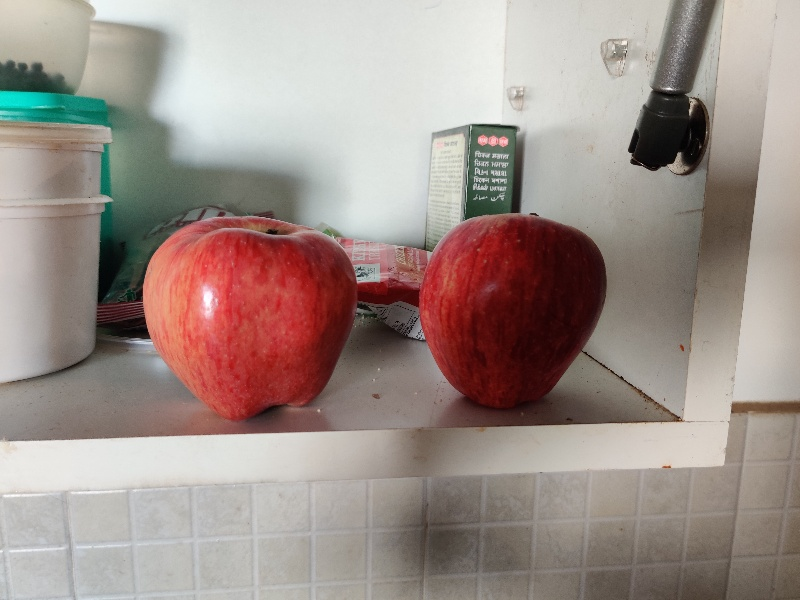apple: (143, 200, 353, 418), (404, 209, 612, 408)
